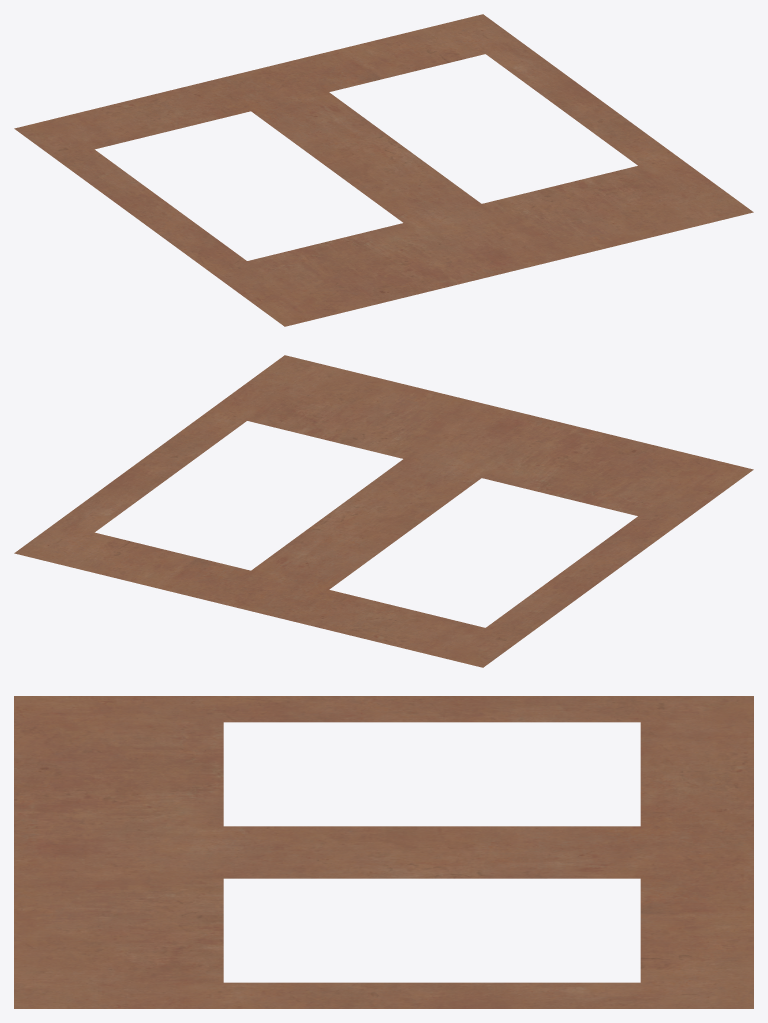
Rendered from wall_window_centered_double_01.gltf.
The picture shows the model from 3 angles, top to bottom: view 1: azimuth 30°, elevation 25°; view 2: azimuth 150°, elevation 25°; view 3: azimuth 270°, elevation 25°; orthographic projection. The views are drawn at different scales.
Parts seen in each view (by area): view 1: wall_window_centered_double_01; view 2: wall_window_centered_double_01; view 3: wall_window_centered_double_01.
Boxes of the visible parts, bbox=[...] form: wall_window_centered_double_01: bbox=[14, 14, 753, 326]; wall_window_centered_double_01: bbox=[14, 355, 753, 667]; wall_window_centered_double_01: bbox=[14, 696, 753, 1008].
Bounding box in the file's own units: 3 × 6.66e-16 × 3.
1 material, 1 textured.
